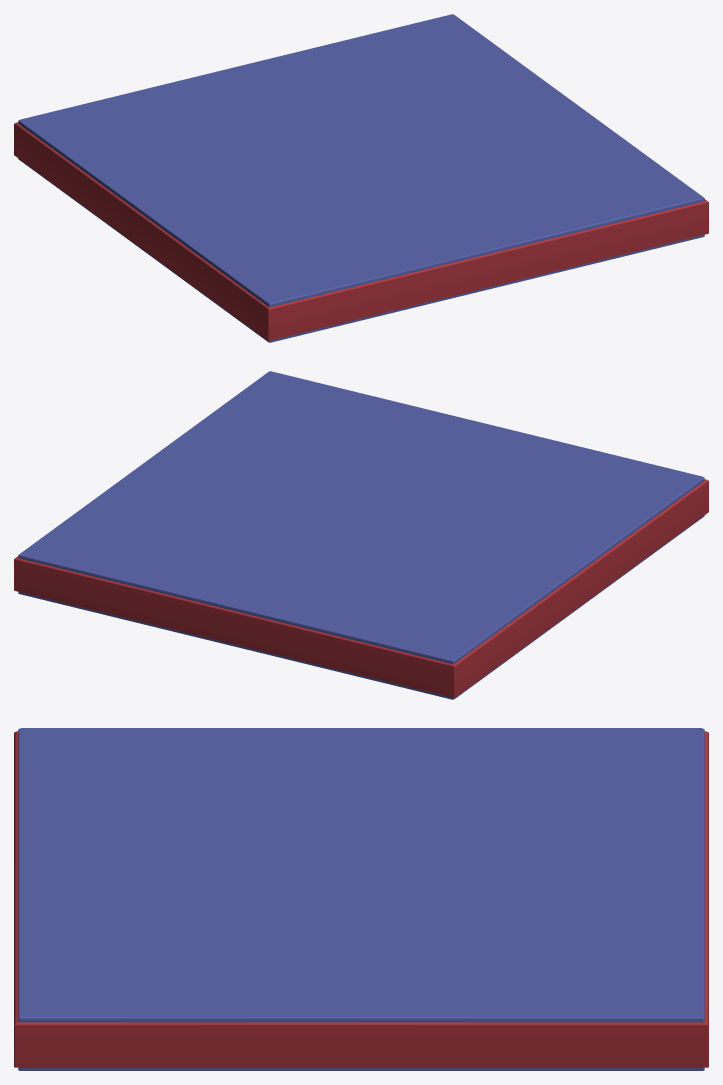
The model's file is SM_TilingFloor5.fbx.
The picture shows the model from 3 angles, top to bottom: view 1: azimuth 30°, elevation 25°; view 2: azimuth 150°, elevation 25°; view 3: azimuth 270°, elevation 25°; orthographic projection. The views are drawn at different scales.
Parts seen in each view (by area): view 1: SM_TilingFloor5; view 2: SM_TilingFloor5; view 3: SM_TilingFloor5.
Boxes of the visible parts, x1,y1,x2,y2 form: SM_TilingFloor5: (14, 14, 708, 342); SM_TilingFloor5: (14, 371, 708, 699); SM_TilingFloor5: (14, 728, 708, 1070).
Size of the model in its own units: 800 by 67.89 by 800.
